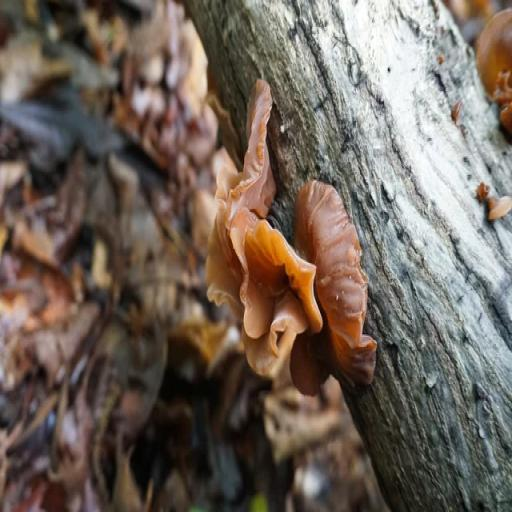mushroom: (198, 84, 385, 412)
